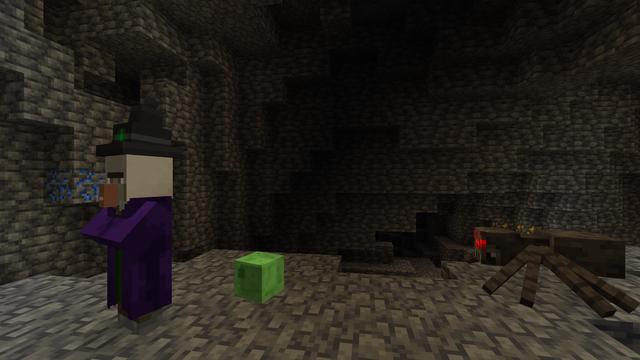araignees: (463, 218, 627, 310)
slimes: (233, 250, 281, 301)
sorcieres: (89, 146, 181, 342)
